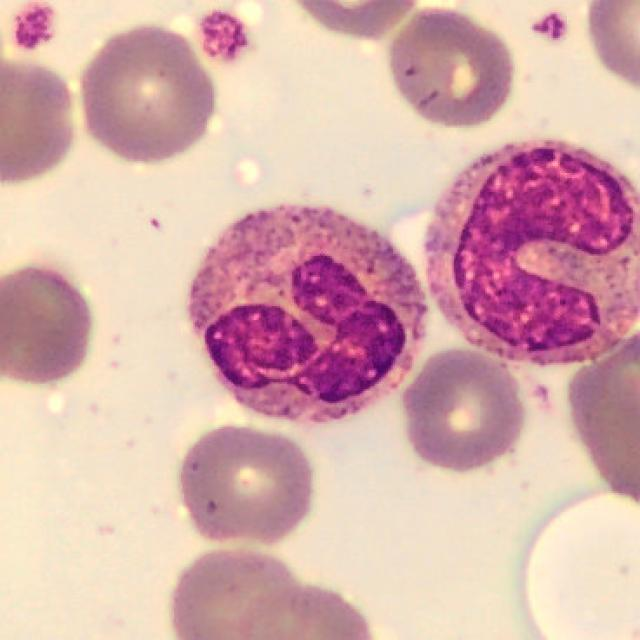Bastonete: (425, 140, 639, 361)
Neutrofilo segmentado: (191, 199, 429, 422)
